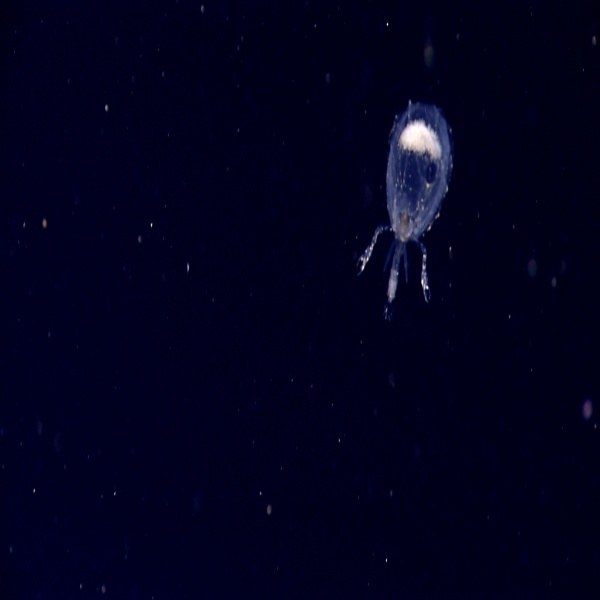Jellyfish: (360, 106, 462, 303)
